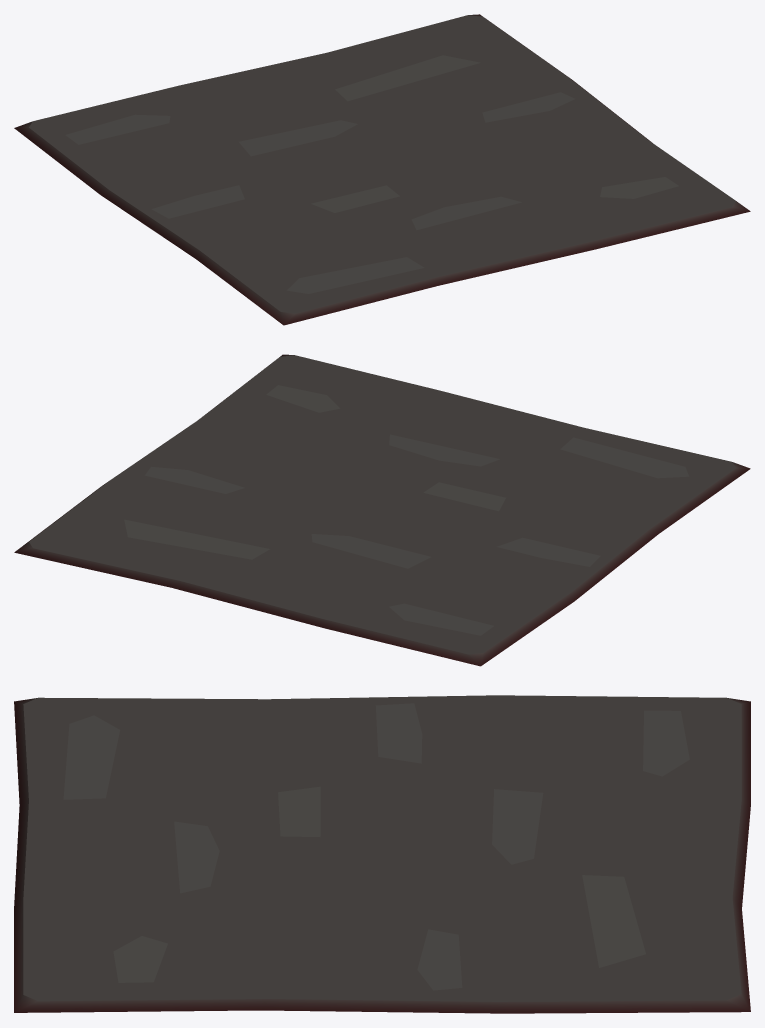
The model's file is TSP_Rug_01B.fbx.
The picture shows the model from 3 angles, top to bottom: view 1: azimuth 30°, elevation 25°; view 2: azimuth 150°, elevation 25°; view 3: azimuth 270°, elevation 25°; orthographic projection. The views are drawn at different scales.
Visible parts, largest first — view 1: TSP_Rug_01B; view 2: TSP_Rug_01B; view 3: TSP_Rug_01B.
Part boxes in pixels (x1,y1,x2,y2): TSP_Rug_01B: (14,14,750,325); TSP_Rug_01B: (14,354,750,666); TSP_Rug_01B: (14,695,750,1013).
Size of the model in its own units: 1.97 by 0.0225 by 1.95.
